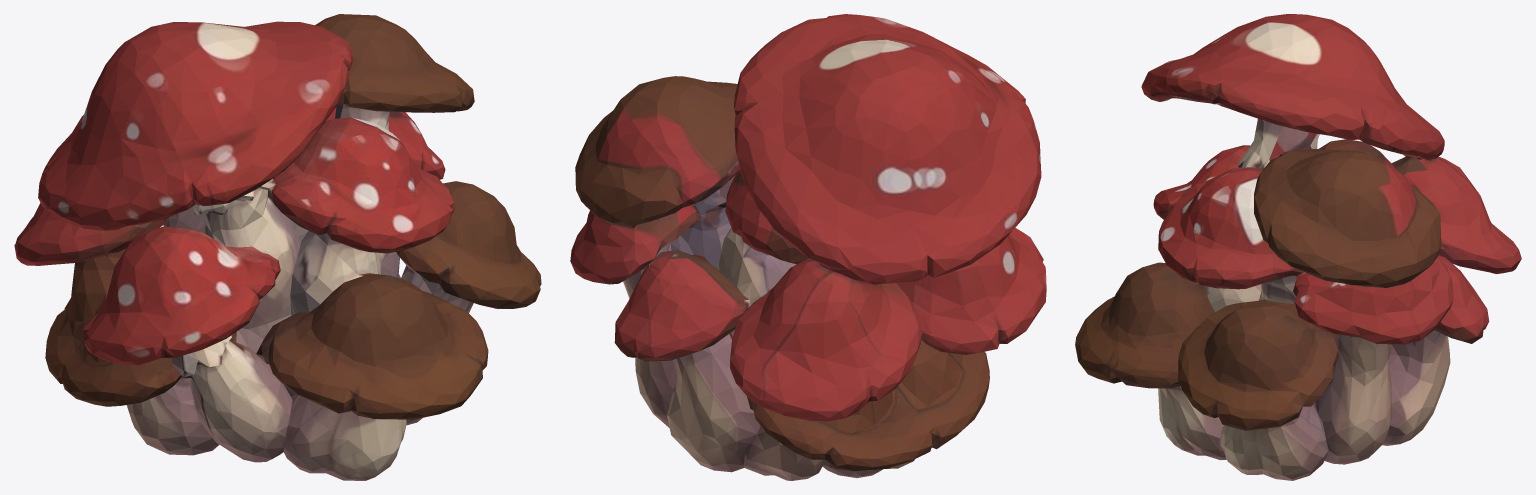
File: mushroom_cluster.glb
3 renders of one model, left to right at view 1: azimuth 30°, elevation 25°; view 2: azimuth 150°, elevation 25°; view 3: azimuth 270°, elevation 25°, orthographic. The views are drawn at different scales.
Parts seen in each view (by area): view 1: tmplbush2c9.ply; view 2: tmplbush2c9.ply; view 3: tmplbush2c9.ply.
Part boxes in pixels (<box>): tmplbush2c9.ply: <box>14,14,541,480</box>; tmplbush2c9.ply: <box>570,14,1046,480</box>; tmplbush2c9.ply: <box>1075,14,1521,480</box>.
Bounding box in the file's own units: 1.99 × 1.84 × 1.95.
1 material, 1 textured.
